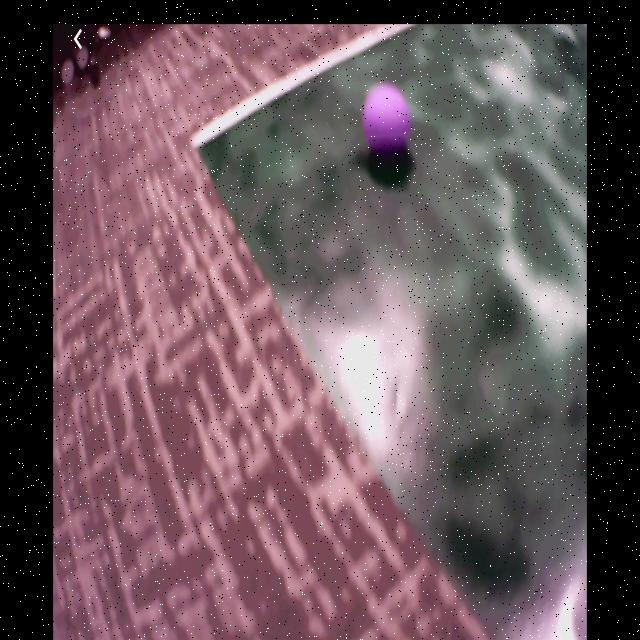ball: (363, 82, 410, 158)
